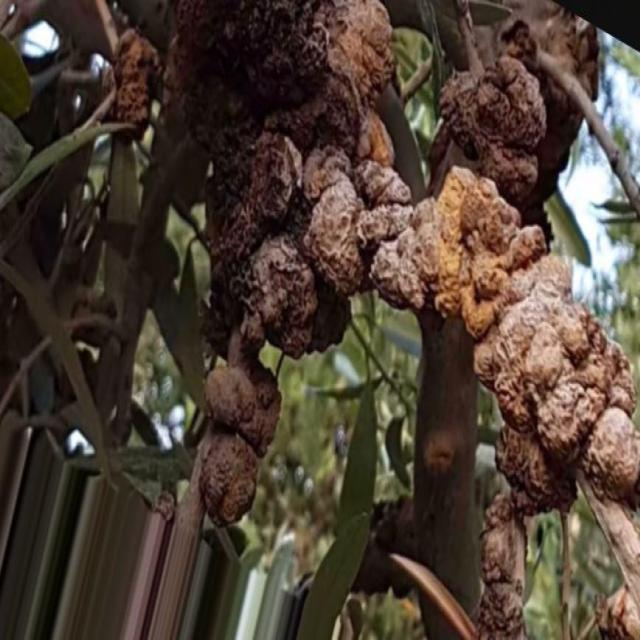Tuberculosis: (164, 0, 639, 548)
